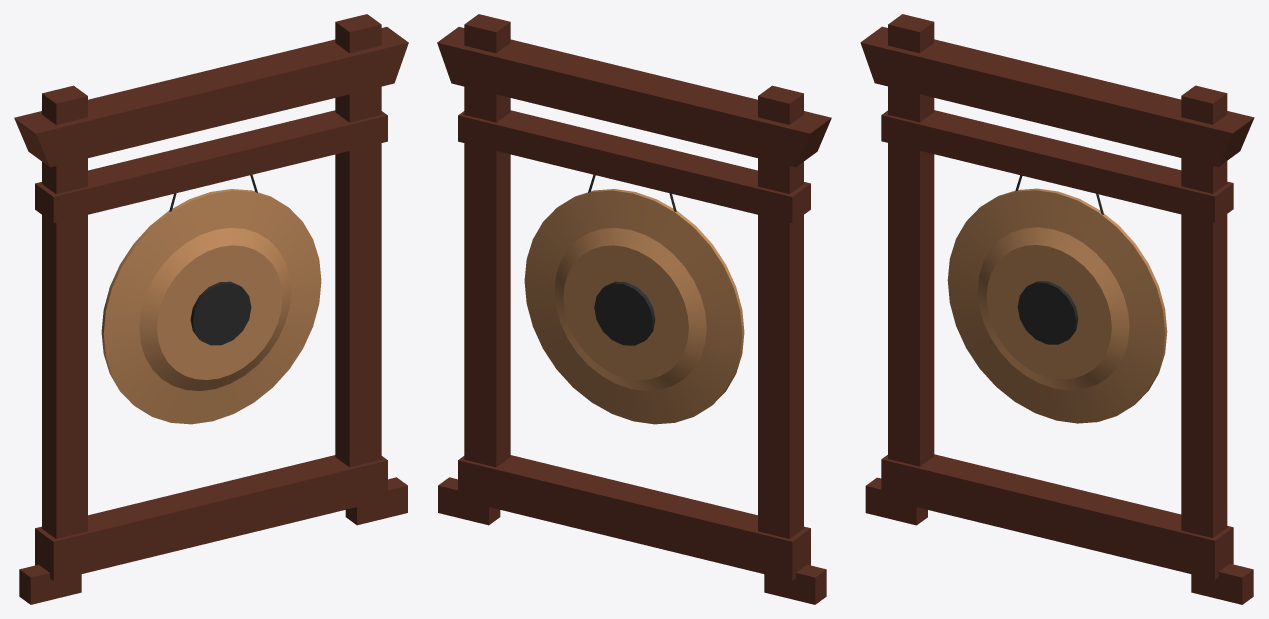
The model's file is Gong_01.fbx.
3 renders of one model, left to right at view 1: azimuth 30°, elevation 25°; view 2: azimuth 150°, elevation 25°; view 3: azimuth 330°, elevation 25°, orthographic.
Parts seen in each view (by area): view 1: Gong_01; view 2: Gong_01; view 3: Gong_01.
Part boxes in pixels (x1=…): Gong_01: x1=14, y1=14, x2=408, y2=604; Gong_01: x1=437, y1=14, x2=831, y2=604; Gong_01: x1=860, y1=14, x2=1254, y2=604.
Size of the model in its own units: 0.6584 by 0.8275 by 0.0661.
